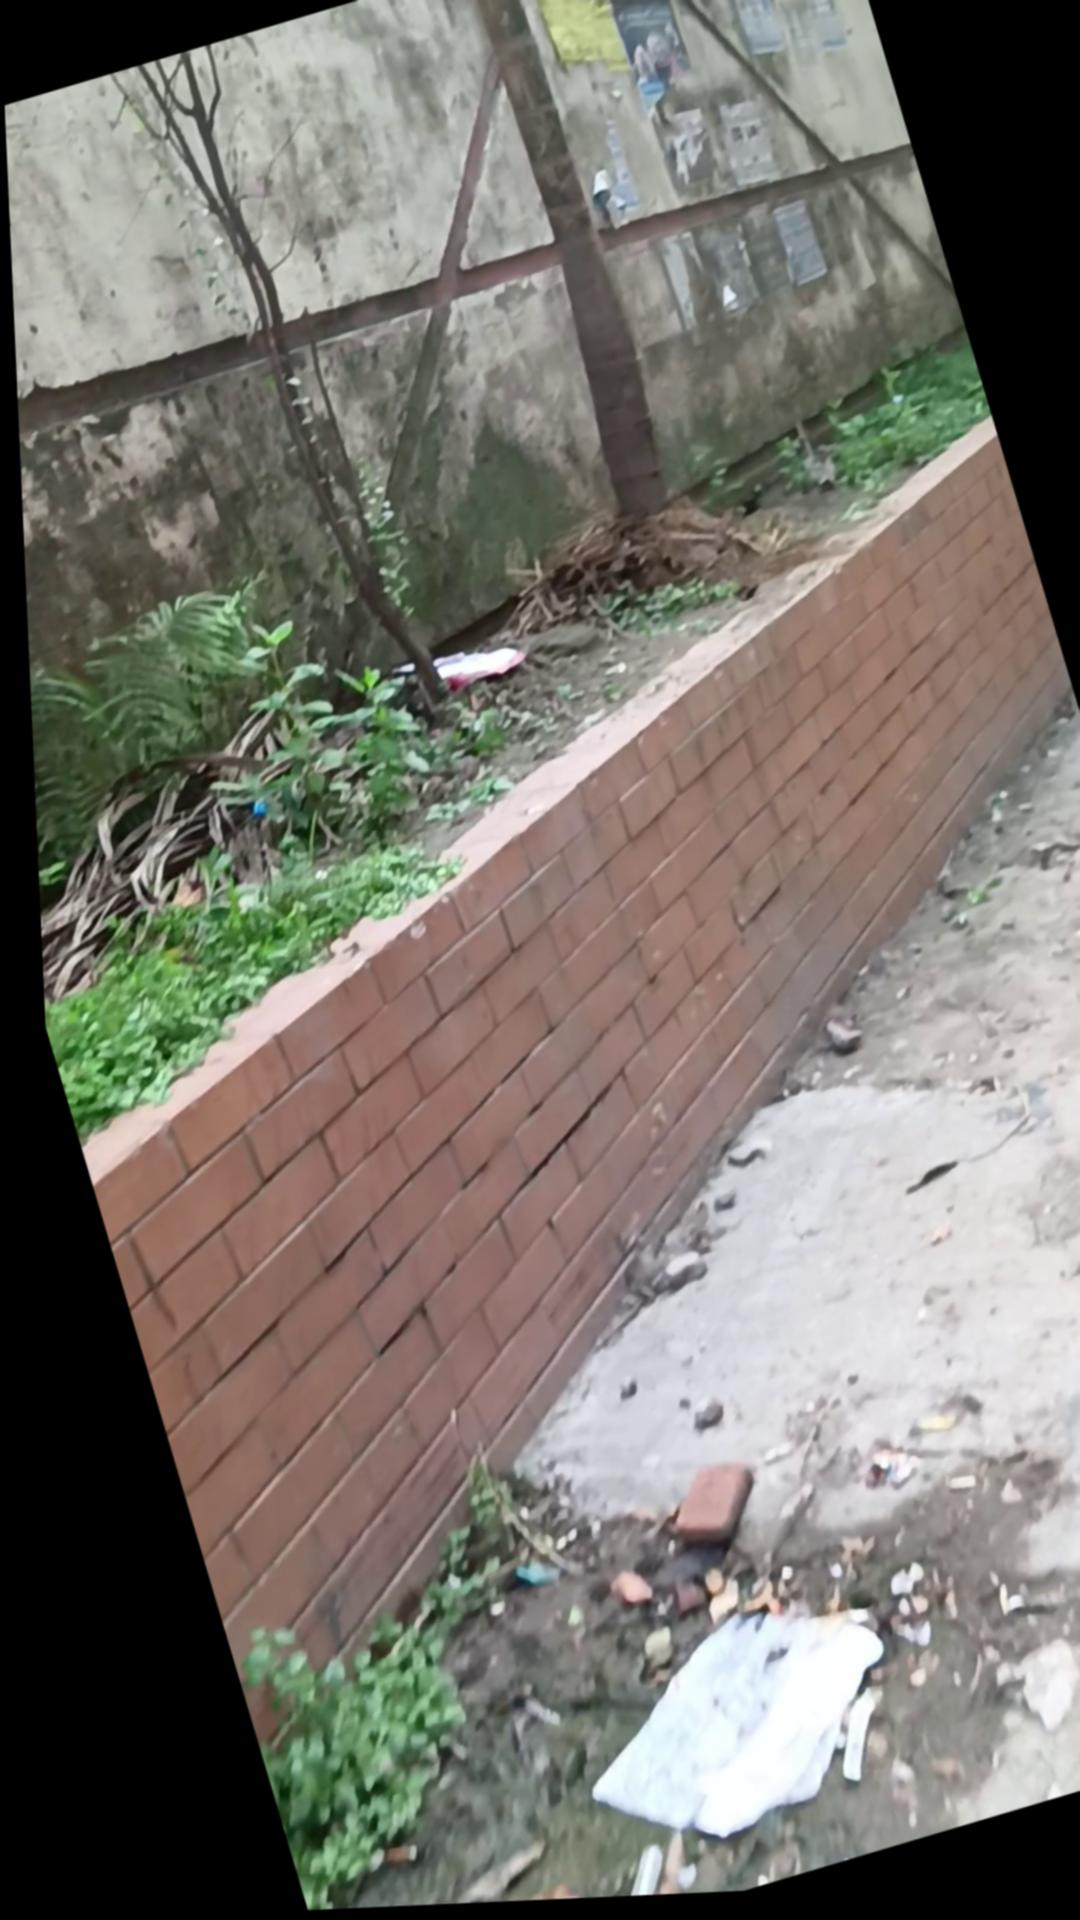Broken-road: (25, 686, 1080, 1920)
Motorcycle: (531, 1577, 910, 1879), (641, 1457, 756, 1563), (968, 531, 972, 535)
Tree: (16, 418, 1080, 1702), (0, 0, 1025, 818)
